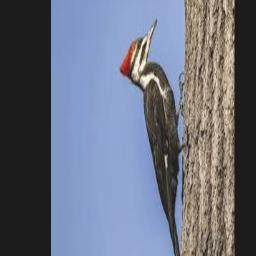Woodpecker: (119, 18, 185, 256)
